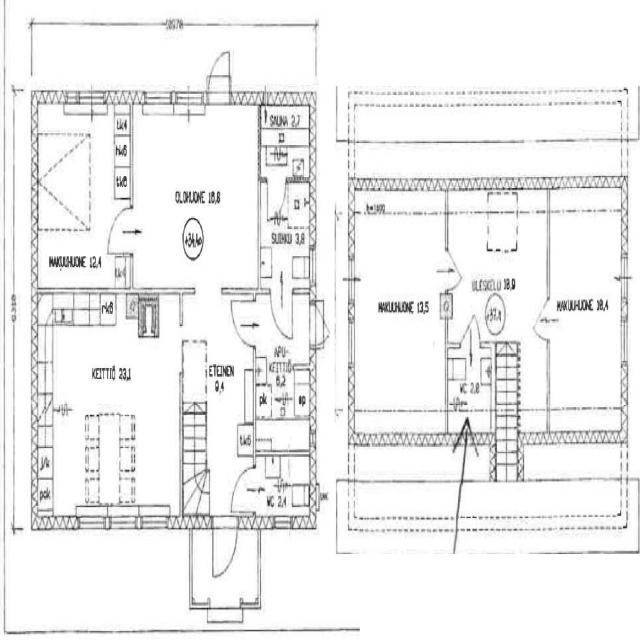door: (211, 516, 239, 580), (206, 46, 232, 108), (107, 201, 135, 256), (229, 295, 256, 349), (230, 463, 256, 512), (265, 172, 288, 220), (270, 292, 292, 340), (310, 303, 329, 349), (532, 301, 550, 342), (466, 314, 479, 351), (458, 325, 473, 355)
window: (344, 300, 358, 375), (137, 505, 170, 535), (618, 296, 631, 372), (107, 505, 139, 535), (142, 85, 174, 113), (76, 506, 108, 534), (543, 338, 553, 404), (620, 247, 631, 297)
zone: (132, 107, 260, 283), (352, 206, 448, 427), (548, 196, 625, 431), (447, 196, 549, 342), (36, 99, 102, 254), (254, 307, 314, 453), (258, 178, 313, 279), (254, 453, 314, 528), (258, 110, 312, 177), (446, 351, 495, 424)
